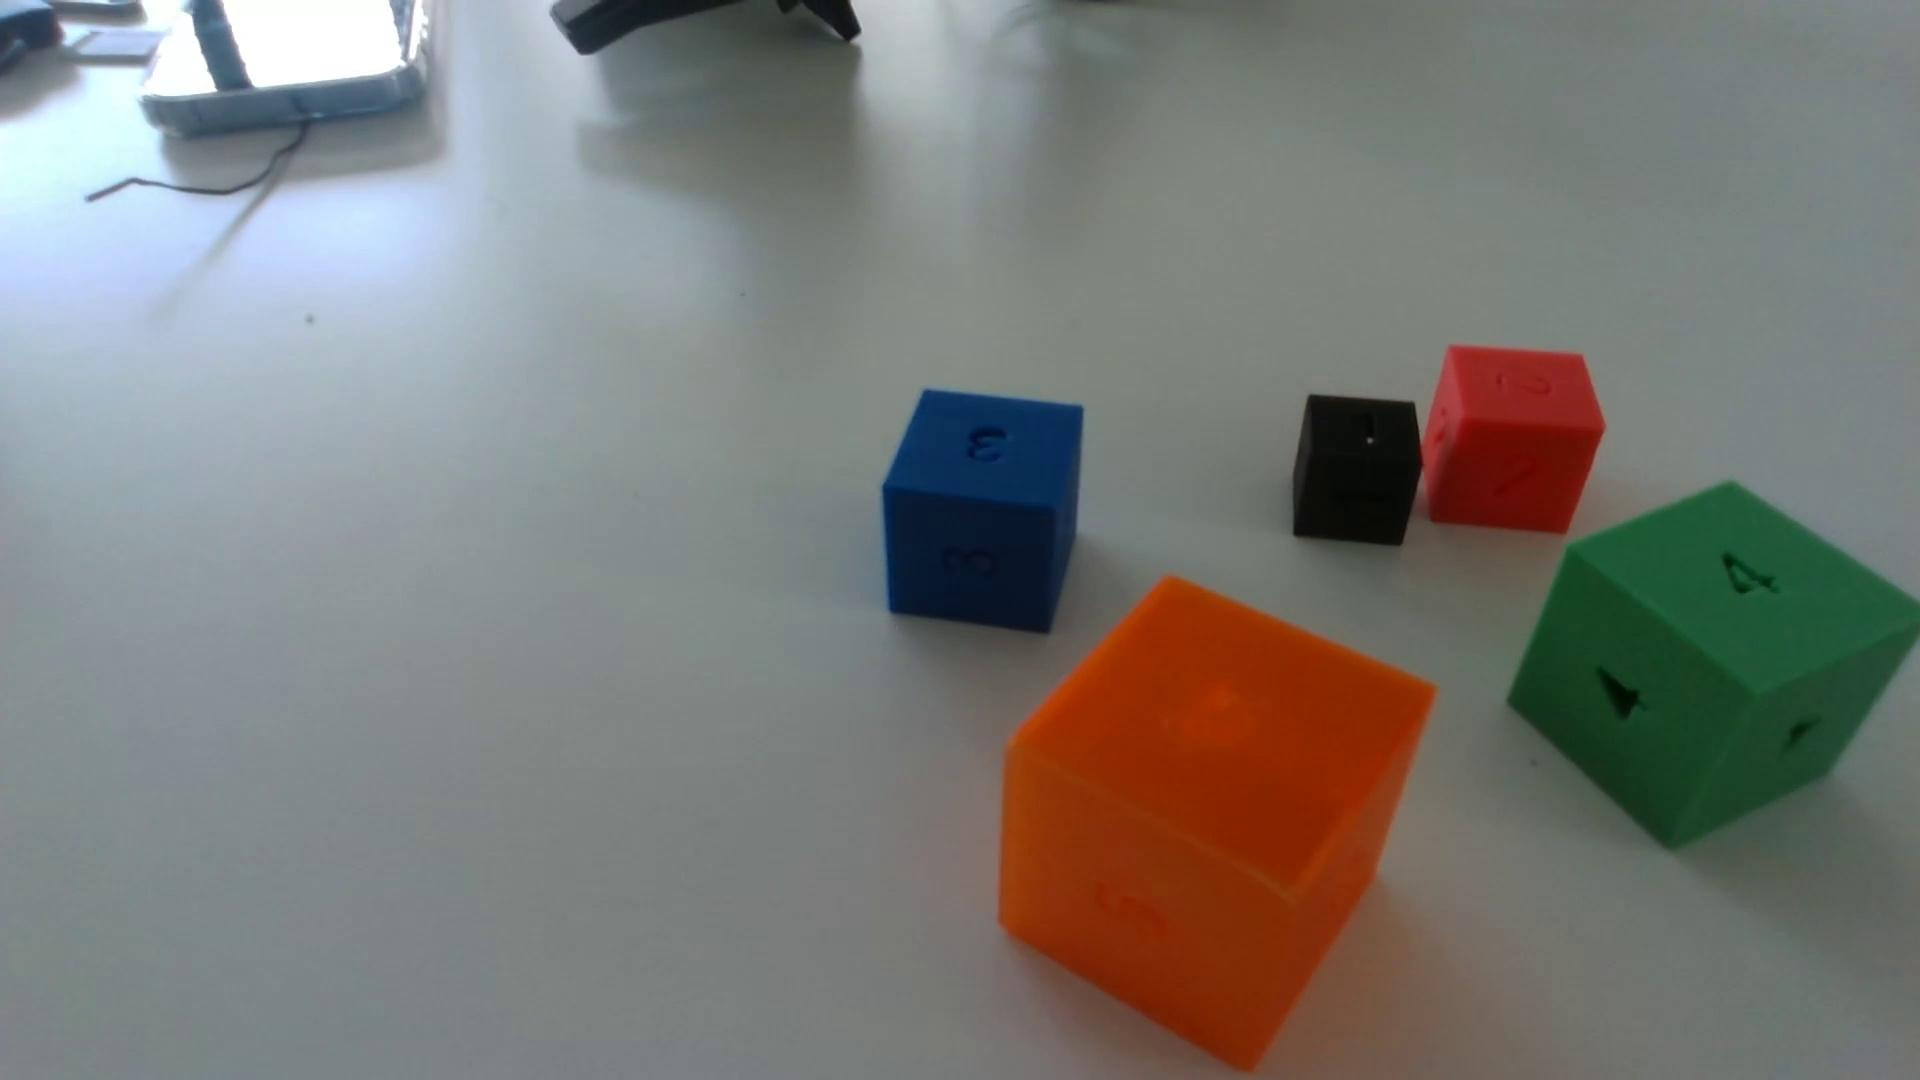black: (1292, 396, 1422, 549)
blue: (882, 390, 1084, 634)
green: (1509, 483, 1920, 849)
orange: (1000, 579, 1435, 1072)
red: (1422, 345, 1605, 535)
